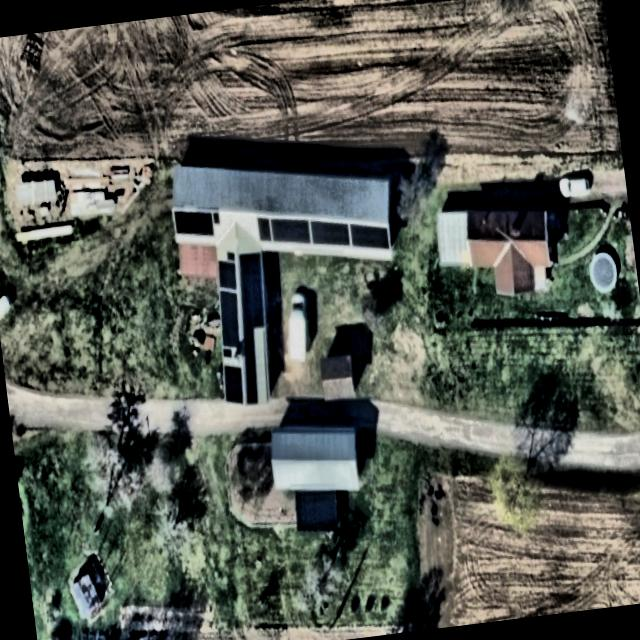roof_pv: (232, 246, 270, 332), (235, 326, 263, 406), (344, 218, 392, 260), (173, 206, 216, 247), (308, 212, 350, 252), (270, 214, 312, 253), (216, 287, 242, 346), (219, 359, 246, 407), (218, 256, 241, 293), (253, 212, 275, 250)
